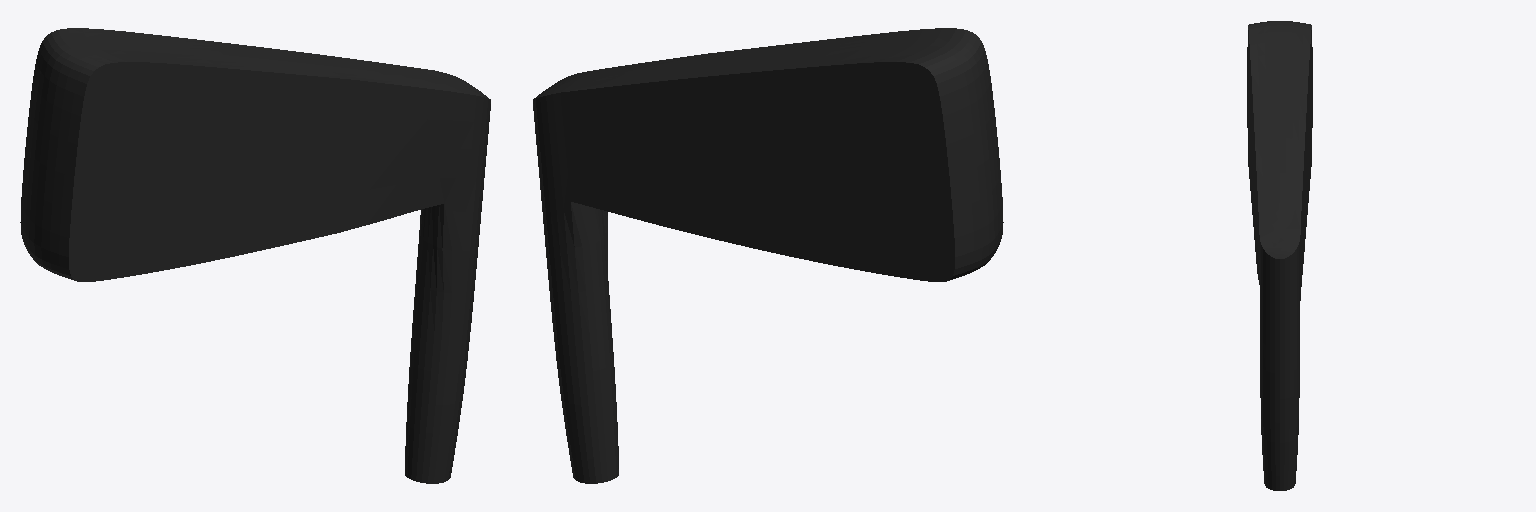
robot.urdf — lbr_iiwa:
<?xml version="1.0" ?>
<!-- ======================================================================= -->
<!-- | This document was autogenerated by xacro from lbr_iiwa.urdf.xacro   | -->
<!-- | Original xacro: https://github.com/rtkg/lbr_iiwa/archive/master.zip | -->
<!-- | EDITING THIS FILE BY HAND IS NOT RECOMMENDED                        | -->
<!-- | Changes ([author]):                                                 | -->
<!-- |   * Removed gazebo tags.                                            | -->
<!-- |   * Removed unused materials.                                       | -->
<!-- |   * Made mesh paths relative.                                       | -->
<!-- |   * Removed material fields from collision segments.                | -->
<!-- |   * Removed the self_collision_checking segment.                    | -->
<!-- |   * Removed transmission segments, since they didn't match the      | -->
<!-- |     convention, will have to added back later.                      | -->
<!-- ======================================================================= -->
<!--LICENSE:                                                                 -->
<!--Copyright (c) 2015, [author] & [author], AASS Research Center,  -->
<!--Orebro University, Sweden                                                -->
<!--All rights reserved.                                                     -->
<!--                                                                         -->
<!--Redistribution and use in source and binary forms, with or without       -->
<!--modification, are permitted provided that the following conditions are   -->
<!--met:                                                                     -->
<!--                                                                         -->
<!--1. Redistributions of source code must retain the above copyright notice,-->
<!--   this list of conditions and the following disclaimer.                 -->
<!--                                                                         -->
<!--2. Redistributions in binary form must reproduce the above copyright     -->
<!--   notice, this list of conditions and the following disclaimer in the   -->
<!--   documentation and/or other materials provided with the distribution.  -->
<!--                                                                         -->
<!--THIS SOFTWARE IS PROVIDED BY THE COPYRIGHT [author] "AS  -->
<!--IS" AND ANY EXPRESS OR IMPLIED WARRANTIES, INCLUDING, BUT NOT LIMITED TO,-->
<!--THE IMPLIED WARRANTIES OF MERCHANTABILITY AND FITNESS FOR A PARTICULAR   -->
<!--PURPOSE ARE DISCLAIMED. IN NO EVENT SHALL THE COPYRIGHT [author]        -->
<!--CONTRIBUTORS BE LIABLE FOR ANY DIRECT, INDIRECT, INCIDENTAL, SPECIAL,    -->
<!--EXEMPLARY, OR CONSEQUENTIAL DAMAGES (INCLUDING, BUT NOT LIMITED TO,      -->
<!--PROCUREMENT OF SUBSTITUTE GOODS OR SERVICES; LOSS OF USE, DATA, OR       -->
<!--PROFITS; OR BUSINESS INTERRUPTION) HOWEVER CAUSED AND ON ANY THEORY OF   -->
<!--LIABILITY, WHETHER IN CONTRACT, STRICT LIABILITY, OR TORT (INCLUDING     -->
<!--NEGLIGENCE OR OTHERWISE) ARISING IN ANY WAY OUT OF THE USE OF THIS       -->
<!--SOFTWARE, EVEN IF ADVISED OF THE POSSIBILITY OF SUCH DAMAGE.             -->
<robot name="lbr_iiwa" xmlns:xacro="http://www.ros.org/wiki/xacro">
  <!-- Import Rviz colors -->
  <material name="Grey">
    <color rgba="0.2 0.2 0.2 1.0"/>
  </material>
  <material name="Orange">
    <color rgba="1.0 0.423529411765 0.0392156862745 1.0"/>
  </material>
  <material name="Blue">
  <color rgba="0.5 0.7 1.0 1.0"/>      
</material>

  <!--Import the lbr iiwa macro -->
  <!--Import Transmissions -->
  <!--Include Utilities -->
  <!--The following macros are adapted from the LWR 4 definitions of the RCPRG - https://github.com/RCPRG-ros-pkg/lwr_robot -->
  <!--Little helper macros to define the inertia matrix needed for links.-->
  <!--Cuboid-->
  <!--Cylinder: length is along the y-axis! -->
  <!--lbr-->
  <link name="lbr_iiwa_link_0">
    <inertial>
      <origin rpy="0 0 0" xyz="-0.1 0 0.07"/>
      <!--Increase mass from 5 Kg original to provide a stable base to carry the
          arm.-->
      <mass value="0.0"/>
      <inertia ixx="0.05" ixy="0" ixz="0" iyy="0.06" iyz="0" izz="0.03"/>
    </inertial>
    <visual>
      <origin rpy="0 0 0" xyz="0 0 0"/>
      <geometry>
        <mesh filename="meshes/link_0.obj"/>
      </geometry>
      <material name="Grey"/>
    </visual>
    <collision>
      <origin rpy="0 0 0" xyz="0 0 0"/>
      <geometry>
        <mesh filename="meshes/link_0.stl"/>
      </geometry>
    </collision>
  </link>
  <!-- joint between link_0 and link_1 -->
  <joint name="lbr_iiwa_joint_1" type="revolute">
    <parent link="lbr_iiwa_link_0"/>
    <child link="lbr_iiwa_link_1"/>
    <origin rpy="0 0 0" xyz="0 0 0.1575"/>
    <axis xyz="0 0 1"/>
    <limit effort="300" lower="-2.96705972839" upper="2.96705972839" velocity="10"/>
    <dynamics damping="0.5"/>
  </joint>
  <link name="lbr_iiwa_link_1">
    <inertial>
      <origin rpy="0 0 0" xyz="0 -0.03 0.12"/>
      <mass value="4"/>
      <inertia ixx="0.1" ixy="0" ixz="0" iyy="0.09" iyz="0" izz="0.02"/>
    </inertial>
    <visual>
      <origin rpy="0 0 0" xyz="0 0 0"/>
      <geometry>
        <mesh filename="meshes/link_1.obj"/>
      </geometry>
      <material name="Blue"/>
    </visual>
    <collision>
      <origin rpy="0 0 0" xyz="0 0 0"/>
      <geometry>
        <mesh filename="meshes/link_1.stl"/>
      </geometry>
    </collision>
  </link>
  <!-- joint between link_1 and link_2, the first joint we need to consider-->
  <joint name="lbr_iiwa_joint_2" type="revolute">
    <parent link="lbr_iiwa_link_1"/>
    <child link="lbr_iiwa_link_2"/>
    <origin rpy="1.57079632679   0 3.14159265359" xyz="0 0 0.2025"/>
    <axis xyz="0 0 1"/>
    <limit effort="300" lower="-2.09439510239" upper="2.09439510239" velocity="10"/>
    <dynamics damping="0.5"/>
  </joint>
  <link name="lbr_iiwa_link_2">
    <inertial>
      <origin rpy="0 0 0" xyz="0.0003 0.059 0.042"/>
      <mass value="4"/>
      <inertia ixx="0.05" ixy="0" ixz="0" iyy="0.018" iyz="0" izz="0.044"/>
    </inertial>
    <visual>
      <origin rpy="0 0 0" xyz="0 0 0"/>
      <geometry>
        <mesh filename="meshes/link_2.obj"/>
      </geometry>
      <material name="Blue"/>
    </visual>
    <collision>
      <origin rpy="0 0 0" xyz="0 0 0"/>
      <geometry>
        <mesh filename="meshes/link_2.stl"/>
      </geometry>
    </collision>
  </link>
  <!-- joint between link_2 and link_3 -->
  <joint name="lbr_iiwa_joint_3" type="revolute">
    <parent link="lbr_iiwa_link_2"/>
    <child link="lbr_iiwa_link_3"/>
    <origin rpy="1.57079632679 0 3.14159265359" xyz="0 0.2045 0"/>
    <axis xyz="0 0 1"/>
    <limit effort="300" lower="-2.96705972839" upper="2.96705972839" velocity="10"/>
    <dynamics damping="0.5"/>
  </joint>
  <link name="lbr_iiwa_link_3">
    <inertial>
      <origin rpy="0 0 0" xyz="0 0.03 0.13"/>
      <mass value="3"/>
      <inertia ixx="0.08" ixy="0" ixz="0" iyy="0.075" iyz="0" izz="0.01"/>
    </inertial>
    <visual>
      <origin rpy="0 0 0" xyz="0 0 0"/>
      <geometry>
        <mesh filename="meshes/link_3.obj"/>
      </geometry>
      <material name="Orange"/>
    </visual>
    <collision>
      <origin rpy="0 0 0" xyz="0 0 0"/>
      <geometry>
        <mesh filename="meshes/link_3.stl"/>
      </geometry>
    </collision>
  </link>
  <!-- joint between link_3 and link_4 -->
  <joint name="lbr_iiwa_joint_4" type="revolute">
    <parent link="lbr_iiwa_link_3"/>
    <child link="lbr_iiwa_link_4"/>
    <origin rpy="1.57079632679 0 0" xyz="0 0 0.2155"/>
    <axis xyz="0 0 1"/>
    <limit effort="300" lower="-2.09439510239" upper="2.09439510239" velocity="10"/>
    <dynamics damping="0.5"/>
  </joint>
  <link name="lbr_iiwa_link_4">
    <inertial>
      <origin rpy="0 0 0" xyz="0 0.067 0.034"/>
      <mass value="2.7"/>
      <inertia ixx="0.03" ixy="0" ixz="0" iyy="0.01" iyz="0" izz="0.029"/>
    </inertial>
    <visual>
      <origin rpy="0 0 0" xyz="0 0 0"/>
      <geometry>
        <mesh filename="meshes/link_4.obj"/>
      </geometry>
      <material name="Blue"/>
    </visual>
    <collision>
      <origin rpy="0 0 0" xyz="0 0 0"/>
      <geometry>
        <mesh filename="meshes/link_4.stl"/>
      </geometry>
    </collision>
  </link>
  <!-- joint between link_4 and link_5 -->
  <joint name="lbr_iiwa_joint_5" type="revolute">
    <parent link="lbr_iiwa_link_4"/>
    <child link="lbr_iiwa_link_5"/>
    <origin rpy="-1.57079632679 3.14159265359 0" xyz="0 0.1845 0"/>
    <axis xyz="0 0 1"/>
    <limit effort="300" lower="-2.96705972839" upper="2.96705972839" velocity="10"/>
    <dynamics damping="0.5"/>
  </joint>
  <link name="lbr_iiwa_link_5">
    <inertial>
      <origin rpy="0 0 0" xyz="0.0001 0.021 0.076"/>
      <mass value="1.7"/>
      <inertia ixx="0.02" ixy="0" ixz="0" iyy="0.018" iyz="0" izz="0.005"/>
    </inertial>
    <visual>
      <origin rpy="0 0 0" xyz="0 0 0"/>
      <geometry>
        <mesh filename="meshes/link_5.obj"/>
      </geometry>
      <material name="Blue"/>
    </visual>
    <collision>
      <origin rpy="0 0 0" xyz="0 0 0"/>
      <geometry>
        <mesh filename="meshes/link_5.stl"/>
      </geometry>
    </collision>
  </link>
  <!-- joint between link_5 and link_6 -->
  <joint name="lbr_iiwa_joint_6" type="revolute">
    <parent link="lbr_iiwa_link_5"/>
    <child link="lbr_iiwa_link_6"/>
    <origin rpy="1.57079632679 0 0" xyz="0 0 0.2155"/>
    <axis xyz="0 0 1"/>
    <limit effort="300" lower="-2.09439510239" upper="2.09439510239" velocity="10"/>
    <dynamics damping="0.5"/>
  </joint>
  <link name="lbr_iiwa_link_6">
    <inertial>
      <origin rpy="0 0 0" xyz="0 0.0006 0.0004"/>
      <mass value="1.8"/>
      <inertia ixx="0.005" ixy="0" ixz="0" iyy="0.0036" iyz="0" izz="0.0047"/>
    </inertial>
    <visual>
      <origin rpy="0 0 0" xyz="0 0 0"/>
      <geometry>
        <mesh filename="meshes/link_6.obj"/>
      </geometry>
      <material name="Orange"/>
    </visual>
    <collision>
      <origin rpy="0 0 0" xyz="0 0 0"/>
      <geometry>
        <mesh filename="meshes/link_6.stl"/>
      </geometry>
    </collision>
  </link>
  <!-- joint between link_6 and link_7 -->
  <joint name="lbr_iiwa_joint_7" type="revolute">
    <parent link="lbr_iiwa_link_6"/>
    <child link="lbr_iiwa_link_7"/>
    <origin rpy="-1.57079632679 3.14159265359 0" xyz="0 0.081 0"/>
    <axis xyz="0 0 1"/>
    <limit effort="300" lower="-3.05432619099" upper="3.05432619099" velocity="10"/>
    <dynamics damping="0.5"/>
  </joint>
  <link name="lbr_iiwa_link_7">
    <inertial>
      <origin rpy="0 0 0" xyz="0 0 0.02"/>
      <mass value="0.3"/>
      <inertia ixx="0.001" ixy="0" ixz="0" iyy="0.001" iyz="0" izz="0.001"/>
    </inertial>
    <visual>
      <origin rpy="0 0 0" xyz="0 0 0"/>
      <geometry>
        <mesh filename="meshes/link_7.obj"/>
      </geometry>
      <material name="Grey"/>
    </visual>
    <collision>
      <origin rpy="0 0 0" xyz="0 0 0"/>
      <geometry>
        <mesh filename="meshes/link_7.stl"/>
      </geometry>
    </collision>
  </link>

  <joint name="golf_club_joint" type="fixed">
    <parent link="lbr_iiwa_link_7"/>
    <child link="golf_club"/>
    <origin rpy="0 0 0" xyz="0 0 0"/>
    <dynamics damping="0.5"/>
  </joint>
  <link name="golf_club">
    <inertial>
      <origin rpy="0 0 0" xyz="0 0 0.0294"/>
      <mass value="0.4"/>
      <inertia ixx="0.0004" ixy="0" ixz="0" iyy="0.0004" iyz="0" izz="0.0005"/>
    </inertial>
    <visual>
      <origin rpy="0 3.5 0" xyz="0.02 0 0.15"/>
      <geometry>
        <mesh filename="meshes/golf_club.obj" scale="0.01 0.01 0.01"/>
      </geometry>
      <material name="Grey"/>
    </visual>
    <collision>
      <origin rpy="0 3.5 0" xyz="0.02 0 0.15"/>
      <geometry>
        <mesh filename="meshes/golf_club.obj" scale="0.01 0.01 0.01"/>
      </geometry>
    </collision>
  </link>
  
</robot>

--- Render facts (derived) ---
Views: 3 orthographic renders of the robot side by side, from view 1: azimuth 30°, elevation 25°; view 2: azimuth 150°, elevation 25°; view 3: azimuth 270°, elevation 25°.
Robot: lbr_iiwa — 9 links, 8 joints (7 revolute, 1 fixed); root link lbr_iiwa_link_0; default pose: all joints at 0.
Links seen in each view (by area): view 1: golf_club; view 2: golf_club; view 3: golf_club.
Link boxes in pixels (left/top/right/bottom): golf_club: left=20, top=28, right=490, bottom=483; golf_club: left=533, top=28, right=1003, bottom=483; golf_club: left=1247, top=21, right=1312, bottom=490.
Bounding box of the posed robot: 0.1477 × 0.0274 × 0.1606 m (x, y, z).
Meshes: 9 distinct files referenced, 1 mesh visuals loaded (1 OBJ); not drawn: 8 (reference not matched to a file when rendering).